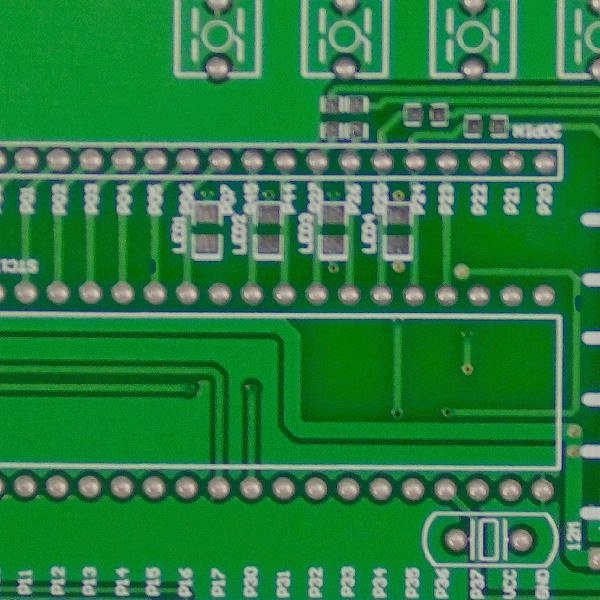mouse_bite: (568, 288, 592, 315), (141, 255, 163, 276)
